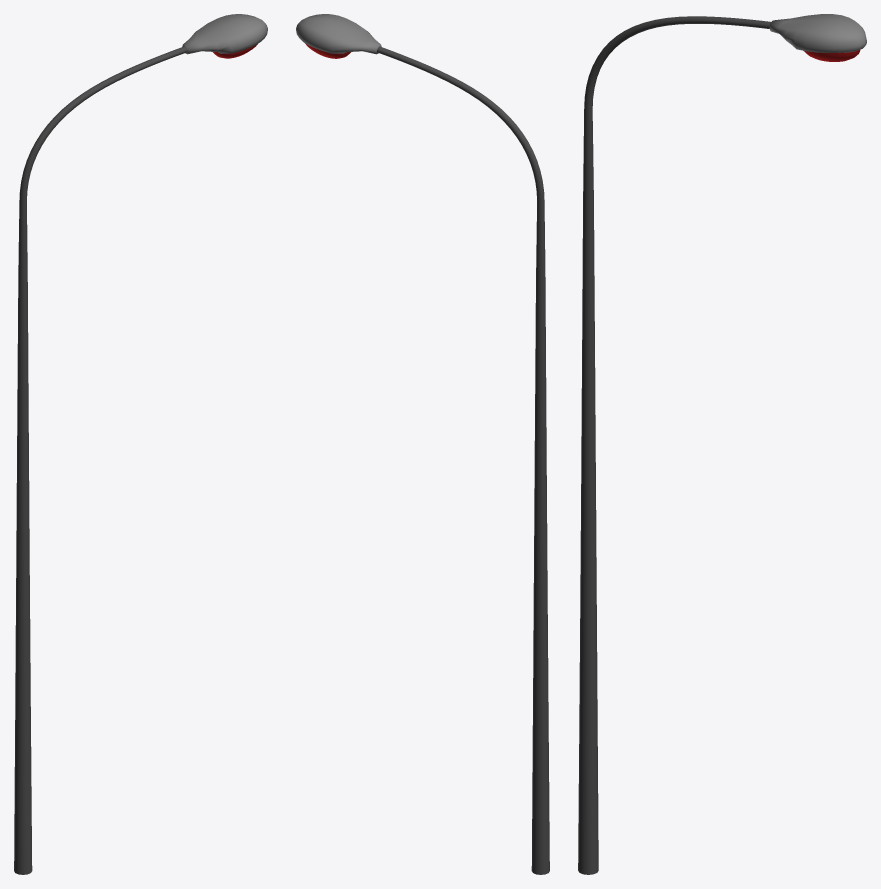
The model's file is SM_lamp_street_highway.fbx.
The picture shows the model from 3 angles, left to right: view 1: azimuth 30°, elevation 25°; view 2: azimuth 150°, elevation 25°; view 3: azimuth 330°, elevation 25°; orthographic projection. The views are drawn at different scales.
Visible parts, largest first — view 1: Line197; view 2: Line197; view 3: Line197.
Part boxes in pixels (x1,y1,x2,y2): Line197: (14, 14, 267, 874); Line197: (296, 14, 549, 874); Line197: (578, 14, 866, 874).
Bounding box in the file's own units: 96.82 × 294 × 18.47.
